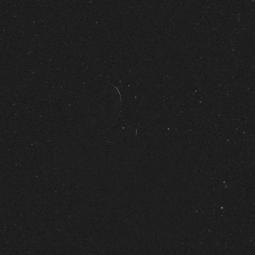cheops: (64, 77, 174, 157)
